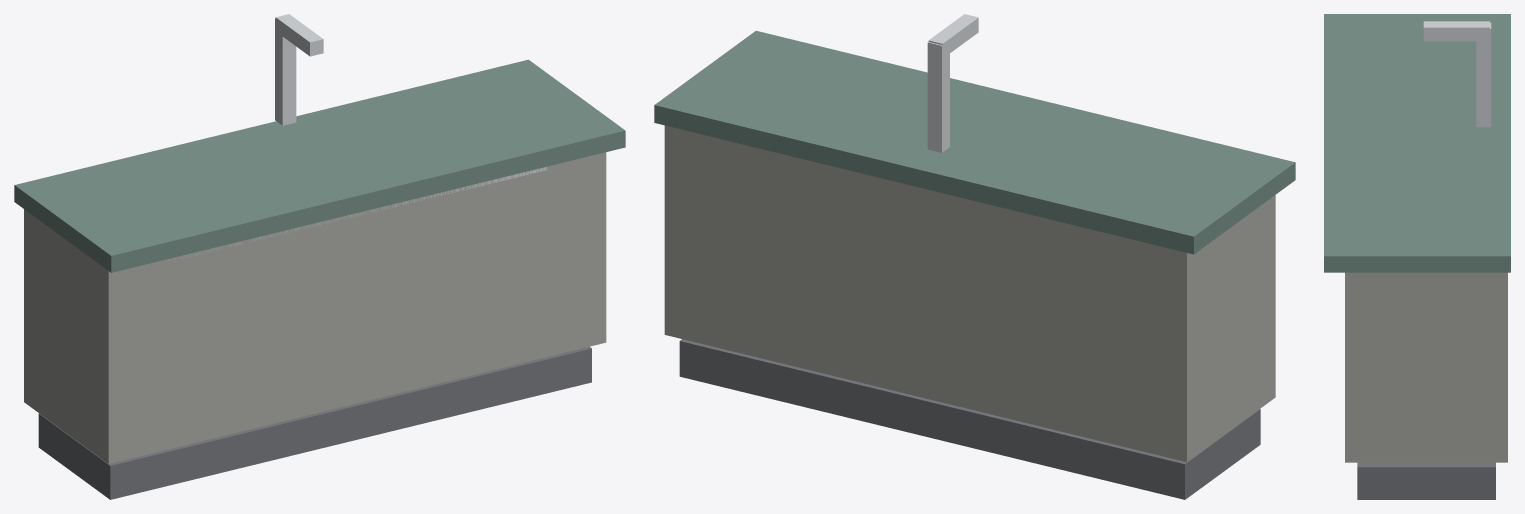
File: mov_6df5e68e97.gltf
3 renders of one model, left to right at view 1: azimuth 30°, elevation 25°; view 2: azimuth 150°, elevation 25°; view 3: azimuth 270°, elevation 25°, orthographic. The views are drawn at different scales.
Parts seen in each view (by area): view 1: mov_6df5e68e97; view 2: mov_6df5e68e97; view 3: mov_6df5e68e97.
Boxes of the visible parts, bbox=[...] form: mov_6df5e68e97: bbox=[14, 14, 625, 499]; mov_6df5e68e97: bbox=[654, 14, 1295, 499]; mov_6df5e68e97: bbox=[1324, 14, 1510, 499].
Bounding box in the file's own units: 1.9 × 1.33 × 0.62.
